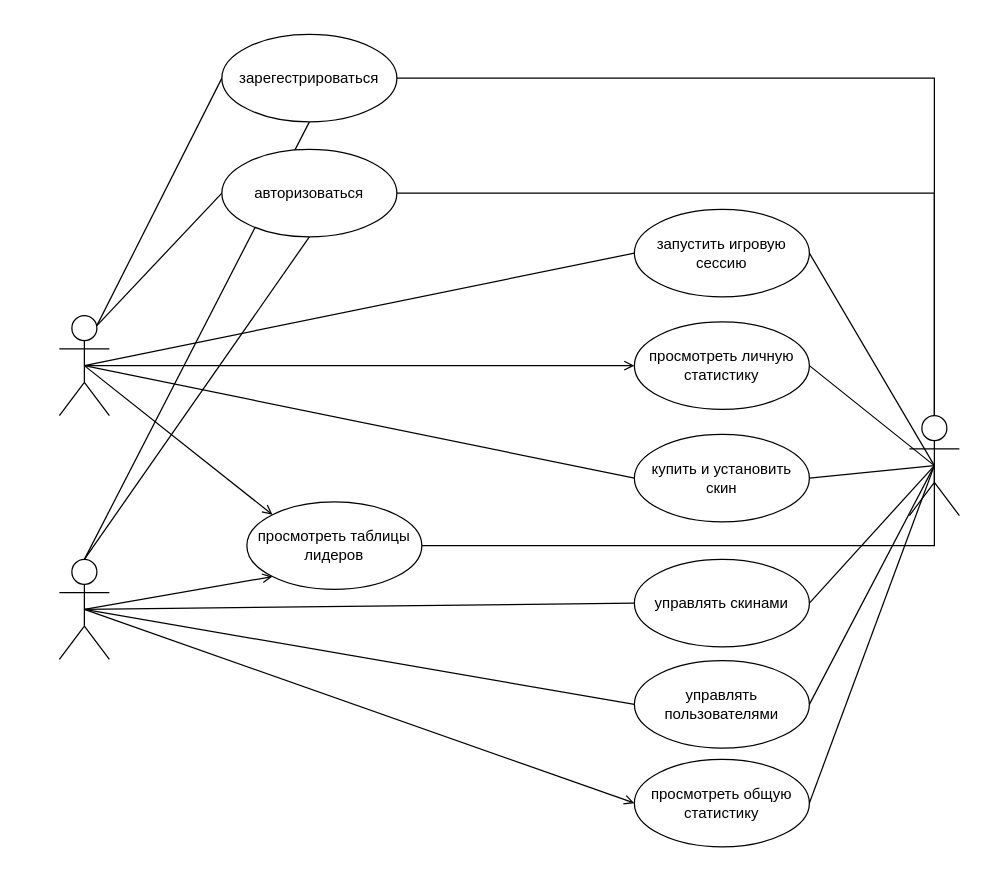
The diagram is 1006 pixels wide and 894 high, and some of its shapes have lost their labels. The shapes that lost their labels are listed below. From the top down, each one's centre as x and y in pixels, then its label:
At [83,365]: "Пользователь".
At [933,465]: "Сервер".
At [83,608]: "Администратор".
